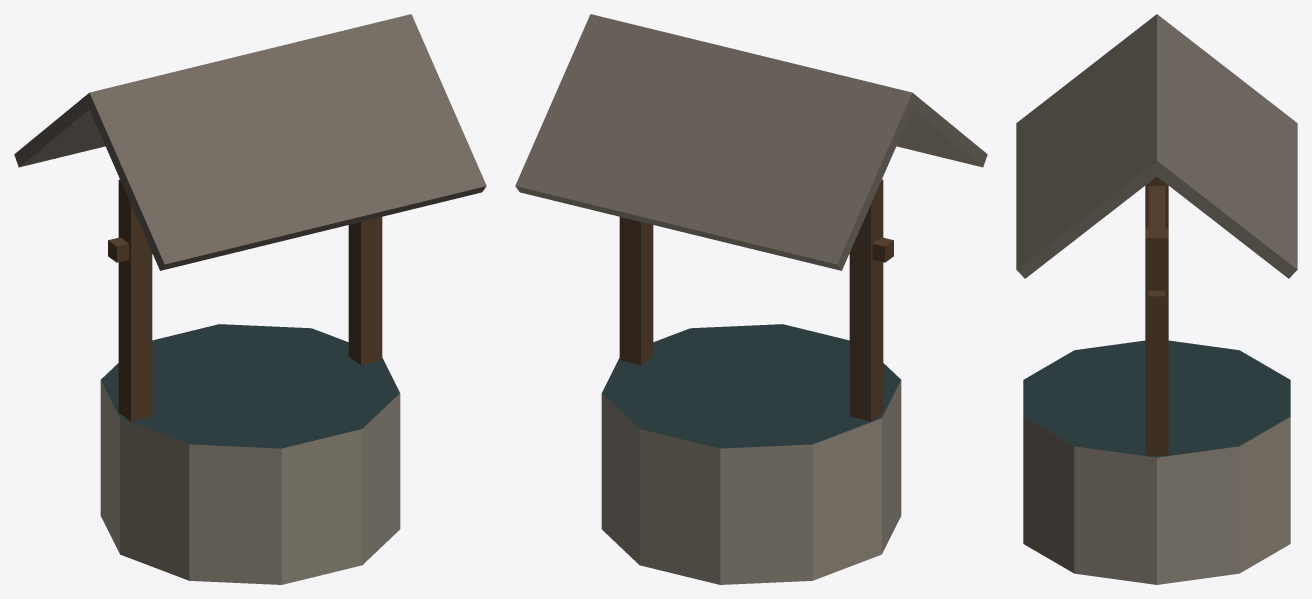
The model's file is well.glb.
3 renders of one model, left to right at view 1: azimuth 30°, elevation 25°; view 2: azimuth 150°, elevation 25°; view 3: azimuth 270°, elevation 25°, orthographic. The views are drawn at different scales.
Visible parts, largest first — view 1: well; view 2: well; view 3: well.
Part boxes in pixels (x1,y1,x2,y2): well: (14,14,486,584); well: (515,14,987,584); well: (1016,14,1297,584).
Bounding box in the file's own units: 2.1 × 2.93 × 1.7.
